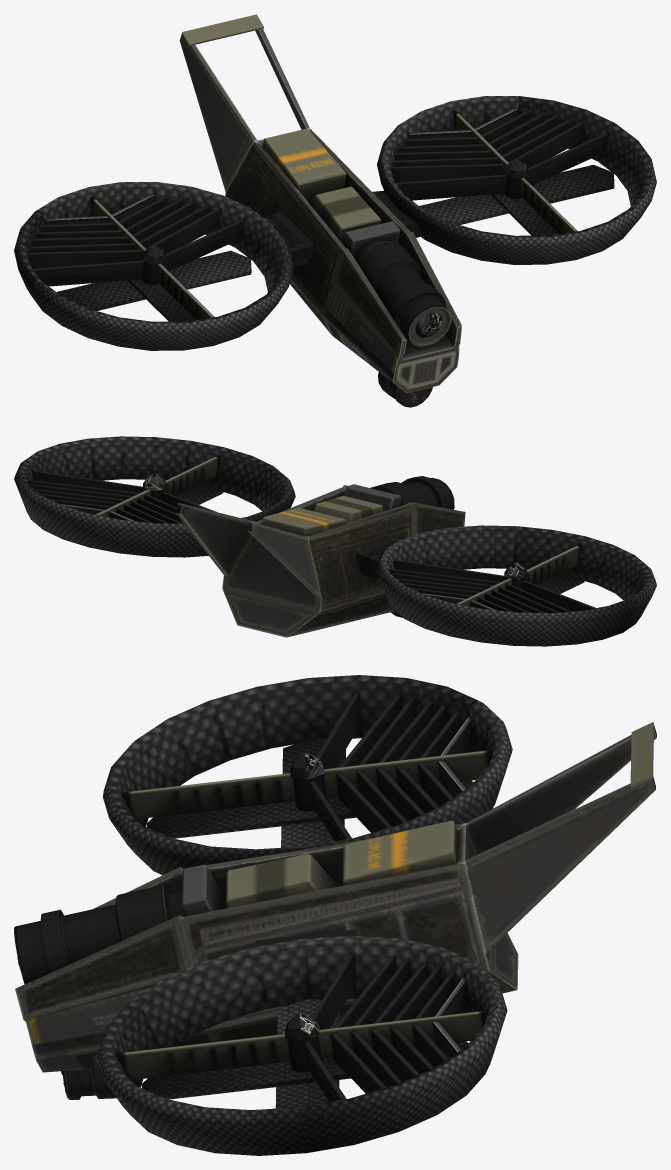
The model's file is Drone.obj.
3 renders of one model, top to bottom at view 1: azimuth 30°, elevation 25°; view 2: azimuth 150°, elevation 25°; view 3: azimuth 270°, elevation 25°, orthographic. The views are drawn at different scales.
Parts seen in each view (by area): view 1: SK_BomberDrone; view 2: SK_BomberDrone; view 3: SK_BomberDrone.
Part boxes in pixels (<box>): SK_BomberDrone: <box>14,14,656,407</box>; SK_BomberDrone: <box>14,436,656,646</box>; SK_BomberDrone: <box>14,675,656,1155</box>.
Size of the model in its own units: 81.96 by 30.88 by 51.28.
1 material, 1 textured.
